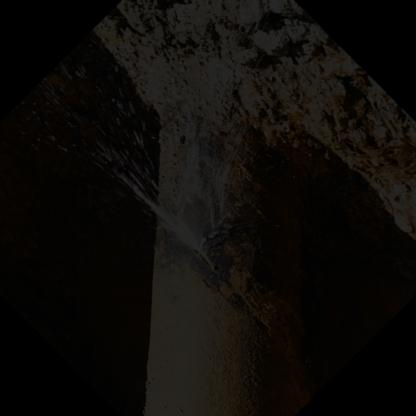burst: (180, 218, 229, 288)
